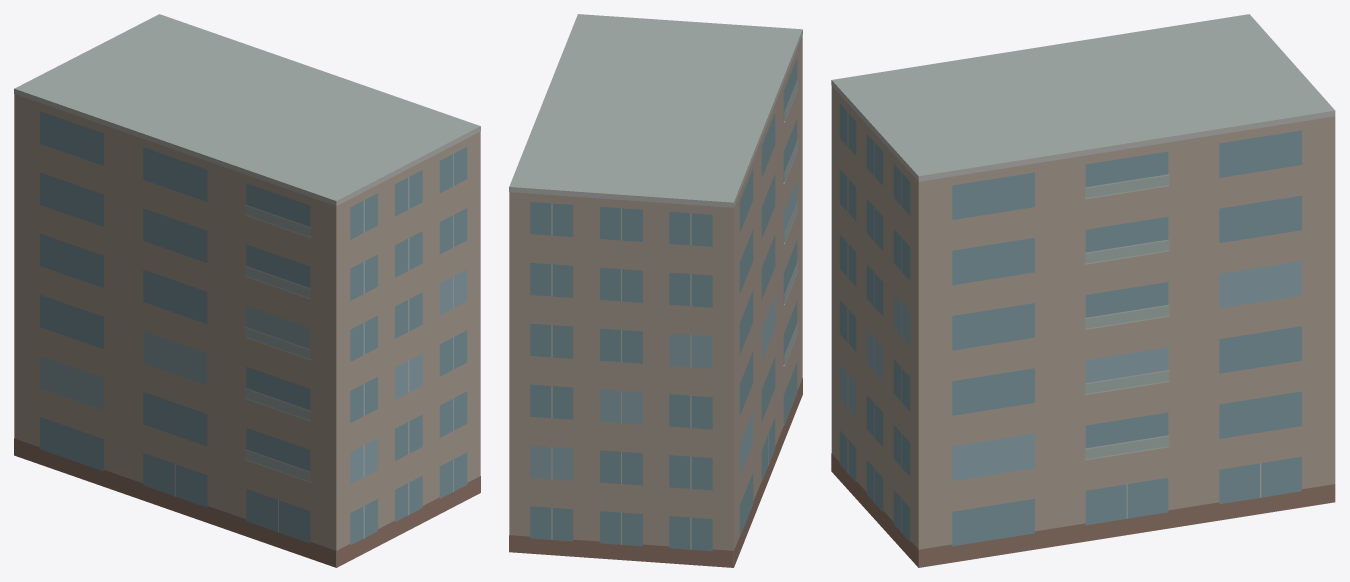
Rendered from survey-upis-32538639.glb.
3 views of the same model, side by side, from view 1: azimuth 30°, elevation 25°; view 2: azimuth 150°, elevation 25°; view 3: azimuth 270°, elevation 25° (orthographic). The views are drawn at different scales.
Parts seen in each view (by area): view 1: survey-upis-32538639.tmp; view 2: survey-upis-32538639.tmp; view 3: survey-upis-32538639.tmp.
Part boxes in pixels (x1,y1,x2,y2): survey-upis-32538639.tmp: (14,14,480,567); survey-upis-32538639.tmp: (509,14,802,567); survey-upis-32538639.tmp: (831,14,1335,567).
Size of the model in its own units: 15.39 by 17.3 by 20.18.
